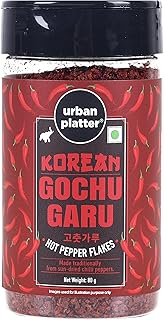Chilli Powder: (2, 2, 162, 320)
